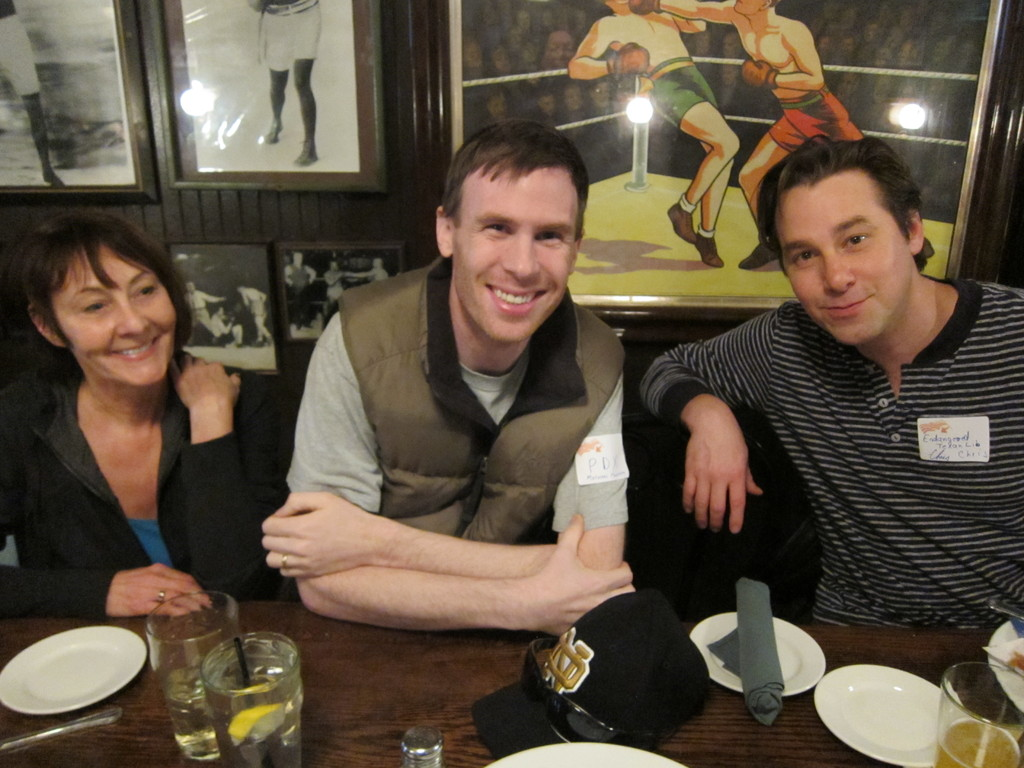plate: (483, 729, 677, 767)
